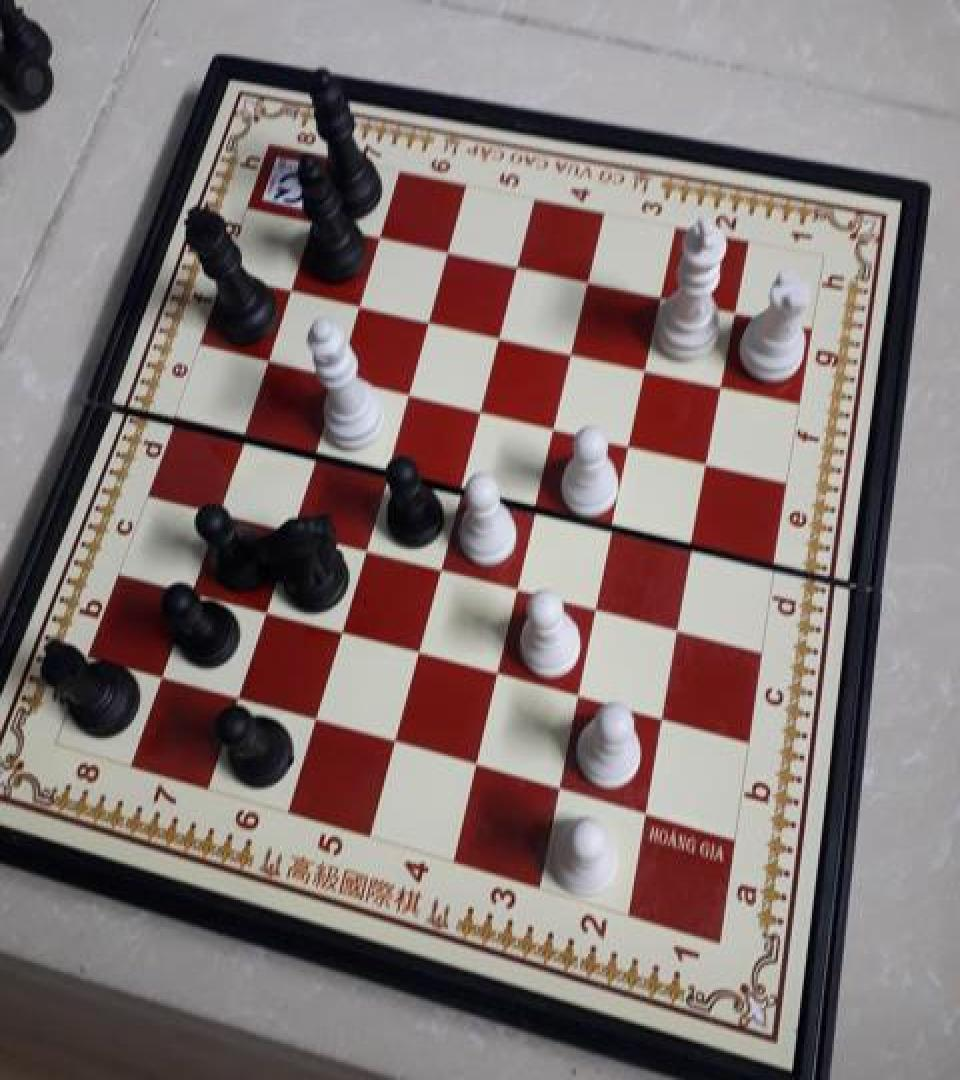xcorner: (146, 659, 174, 691), (301, 703, 329, 735), (462, 749, 490, 781), (631, 796, 659, 828), (250, 594, 278, 626), (326, 614, 354, 646), (484, 657, 512, 689), (565, 678, 593, 710), (426, 550, 454, 582), (504, 569, 532, 601), (229, 414, 257, 446), (300, 432, 328, 464), (373, 450, 401, 482), (448, 468, 476, 500), (523, 487, 551, 519), (601, 506, 629, 538), (679, 525, 707, 557), (468, 391, 496, 423), (542, 409, 570, 441), (617, 426, 645, 458), (694, 445, 722, 477), (278, 271, 306, 303), (487, 318, 515, 350), (559, 335, 587, 367), (632, 351, 660, 383), (367, 219, 395, 251), (435, 234, 463, 266), (575, 264, 603, 296), (647, 280, 675, 312), (222, 682, 250, 713), (381, 726, 409, 757), (546, 773, 574, 804), (175, 574, 203, 605), (404, 636, 432, 667), (648, 701, 676, 732), (203, 492, 231, 523), (276, 511, 304, 542), (350, 530, 378, 561), (583, 591, 611, 622), (664, 611, 692, 642), (254, 341, 282, 372), (324, 358, 352, 389), (395, 375, 423, 406), (346, 287, 374, 318), (416, 303, 444, 334), (707, 368, 735, 399), (300, 205, 328, 236), (505, 249, 533, 280), (720, 296, 748, 327)
